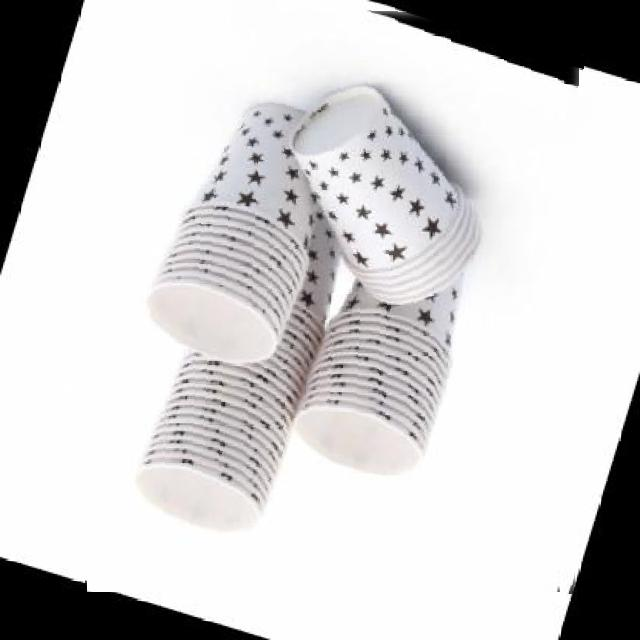non-biodegradable: (87, 0, 581, 592)
